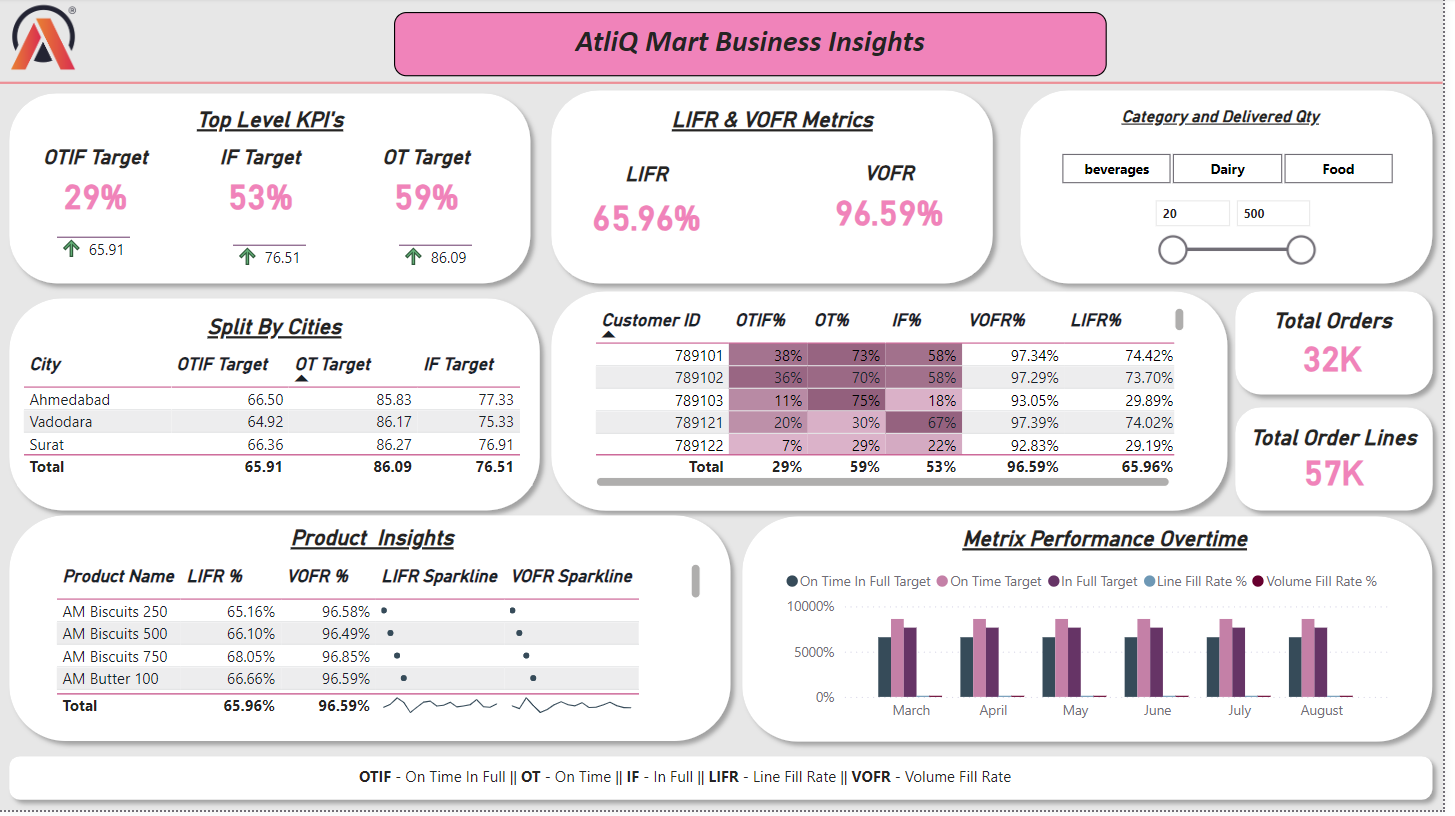

This screenshot's page, from the dashboard's own definition file:
{"tool":"powerbi","page":{"name":"Page 1","canvas":[1280,720],"ordinal":0},"visuals":[{"type":"shape","box":[0,68.7,1280,12.1],"z":0},{"type":"image","box":[0,0,79.9,68.7],"z":1000},{"type":"textbox","box":[350.2,12.1,631.6,56.7],"z":2000},{"type":"shape","box":[0,75.2,480.2,186.7],"z":3000},{"type":"card","title":"OT Target","fields":{"Values":["Key-Metric.On Time Delivery %"]},"box":[320.5,130,117,67.8],"z":4000},{"type":"card","title":"IF Target","fields":{"Values":["Key-Metric.In Full Delivery %"]},"box":[170.9,130,120.8,67.8],"z":5000},{"type":"card","title":"OTIF Target","fields":{"Values":["Key-Metric.On Time In Full Delivery %"]},"box":[28.8,130,114.3,67.8],"z":6000},{"type":"tableEx","fields":{"Values":["Key-Metric.On Time In Full Target"]},"box":[45.5,183,81.7,58.5],"z":7000},{"type":"tableEx","fields":{"Values":["Key-Metric.In Full Target"]},"box":[201.6,189.5,77.1,58.5],"z":8000},{"type":"tableEx","fields":{"Values":["Key-Metric.On Time Target"]},"box":[348.3,189.5,86.4,58.5],"z":9000},{"type":"shape","box":[0,257.3,488.6,206.2],"z":10000},{"type":"tableEx","fields":{"Values":["dim_customers.city","Key-Metric.On Time In Full Target","Key-Metric.On Time Target","Key-Metric.In Full Target"]},"box":[15.8,308.4,457,123.5],"z":11000},{"type":"textbox","box":[147.7,274.9,192.3,33.4],"z":12000},{"type":"shape","box":[480.2,72.5,409.6,189.5],"z":13000},{"type":"shape","box":[480.2,250.8,617.7,212.7],"z":14000},{"type":"textbox","box":[131.9,91,216.4,33.4],"z":15000},{"type":"textbox","box":[562.9,91,245.2,39.9],"z":16000},{"type":"card","title":"LIFR","fields":{"Values":["Key-Metric.Line Fill Rate %"]},"box":[508.1,145.8,131.9,74.3],"z":17000},{"type":"card","title":"VOFR","fields":{"Values":["Key-Metric.Volume Fill Rate %"]},"box":[729.2,144.9,120.8,67.8],"z":18000},{"type":"tableEx","fields":{"Values":["dim_customers.customer_id","Key-Metric.On Time In Full Delivery %","Key-Metric.On Time Delivery %","Key-Metric.In Full Delivery %","Key-Metric.Volume Fill Rate %","Key-Metric.Line Fill Rate %"]},"box":[523,269.4,533.2,169.1],"z":19000},{"type":"shape","box":[896.4,72.5,383.6,189.5],"z":20000},{"type":"slicer","title":"Product Category","fields":{"Values":["dim_products.category"]},"box":[916.8,131,342.8,36.2],"z":21000},{"type":"slicer","fields":{"Values":["fact_orders_lines.order_qty"]},"box":[1012.6,169.4,163.2,77.1],"z":22000},{"type":"textbox","box":[990.2,91,200.6,33.4],"z":23000},{"type":"shape","box":[0,449.6,657.6,218.3],"z":24000},{"type":"tableEx","fields":{"Values":["dim_products.product_name","Key-Metric.Line Fill Rate %","Key-Metric.Volume Fill Rate %","SparklineData(Key-Metric.Line Fill Rate %_[dim_products.product_name])","SparklineData(Key-Metric.Volume Fill Rate %_[dim_products.product_name])"]},"box":[45.5,497,582.4,144.9],"z":25000},{"type":"textbox","box":[253.6,461.7,172.8,35.3],"z":26000},{"type":"shape","box":[0,663.2,1280,56.7],"z":27000},{"type":"textbox","box":[306.8,676.6,603,30.1],"z":28000},{"type":"shape","box":[1086.8,250.8,193.2,109.6],"z":29000},{"type":"card","title":"Total Orders","fields":{"Values":["Key-Metric.Total Orders"]},"box":[1121,275,123,64],"z":30000},{"type":"shape","box":[1086.8,353.9,193.2,109.6],"z":31000},{"type":"card","title":"Total Order Lines","fields":{"Values":["Key-Metric.Total Order Lines"]},"box":[1097.9,379,170.9,59.4],"z":32000},{"type":"shape","box":[650,450,630,218],"z":33000},{"type":"lineClusteredColumnComboChart","fields":{"Category":["dim_date.date.Variation.Date Hierarchy.Month"],"Y":["Key-Metric.On Time In Full Target","Key-Metric.On Time Target","Key-Metric.In Full Target","Key-Metric.Line Fill Rate %","Key-Metric.Volume Fill Rate %"]},"box":[692.3,497.2,543.6,152.3],"z":34000},{"type":"textbox","box":[826.8,462.8,308.1,35.7],"z":35000}]}

Visuals, with their boxes in screenshot pixels (x1, y1, x2, y2), scaled from the page's 1280x720 canvas onto the 1455x816 screenshot:
shape: box(0, 78, 1454, 92)
image: box(0, 0, 91, 78)
textbox: box(398, 14, 1116, 78)
shape: box(0, 85, 546, 297)
"OT Target" card: box(364, 147, 497, 224)
"IF Target" card: box(194, 147, 332, 224)
"OTIF Target" card: box(33, 147, 163, 224)
tableEx - Key-Metric.On Time In Full Target: box(52, 207, 145, 274)
tableEx - Key-Metric.In Full Target: box(229, 215, 317, 281)
tableEx - Key-Metric.On Time Target: box(396, 215, 494, 281)
shape: box(0, 292, 555, 525)
tableEx - dim_customers.city x Key-Metric.On Time In Full Target: box(18, 350, 537, 489)
textbox: box(168, 312, 386, 349)
shape: box(546, 82, 1011, 297)
shape: box(546, 284, 1248, 525)
textbox: box(150, 103, 396, 141)
textbox: box(640, 103, 919, 148)
"LIFR" card: box(578, 165, 728, 249)
"VOFR" card: box(829, 164, 966, 241)
tableEx - dim_customers.customer_id x Key-Metric.On Time In Full Delivery %: box(595, 305, 1201, 497)
shape: box(1019, 82, 1454, 297)
"Product Category" slicer: box(1042, 148, 1432, 189)
slicer - fact_orders_lines.order_qty: box(1151, 192, 1337, 279)
textbox: box(1126, 103, 1354, 141)
shape: box(0, 510, 748, 757)
tableEx - dim_products.product_name x Key-Metric.Line Fill Rate %: box(52, 563, 714, 727)
textbox: box(288, 523, 485, 563)
shape: box(0, 752, 1454, 815)
textbox: box(349, 767, 1034, 801)
shape: box(1235, 284, 1454, 408)
"Total Orders" card: box(1274, 312, 1414, 384)
shape: box(1235, 401, 1454, 525)
"Total Order Lines" card: box(1248, 430, 1442, 497)
shape: box(739, 510, 1454, 757)
lineClusteredColumnComboChart - dim_date.date.Variation.Date Hierarchy.Month x Key-Metric.On Time In Full Target: box(787, 563, 1405, 736)
textbox: box(940, 525, 1290, 565)
